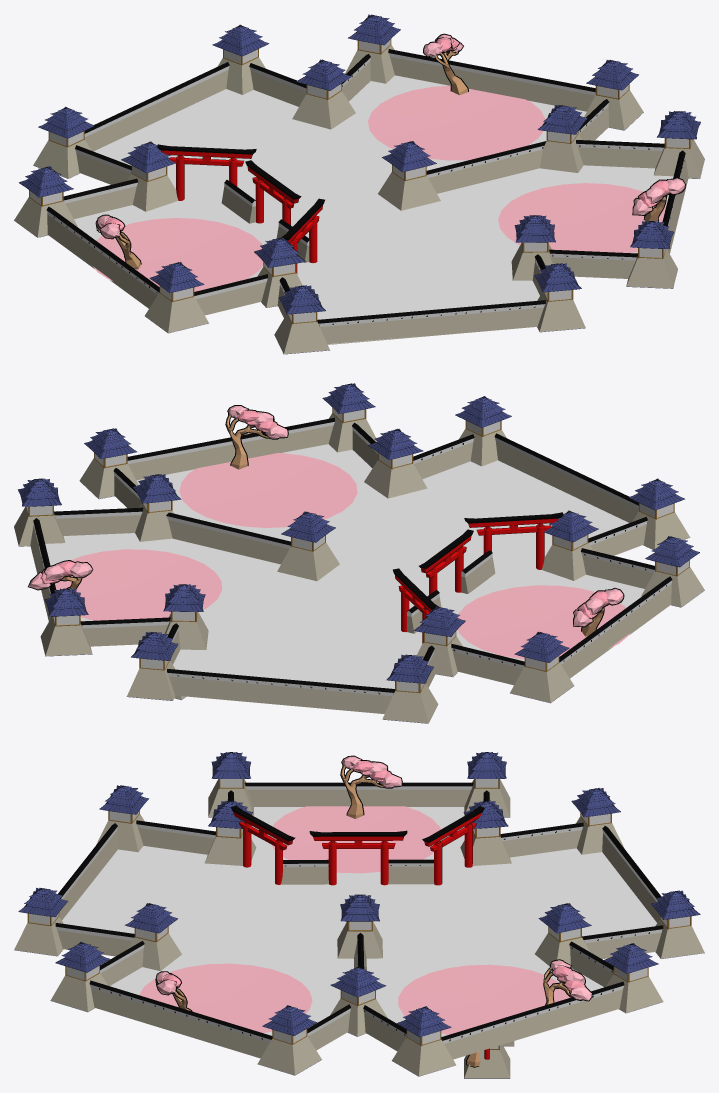
File: japanesemaplarge.fbx
The picture shows the model from 3 angles, top to bottom: view 1: azimuth 30°, elevation 25°; view 2: azimuth 150°, elevation 25°; view 3: azimuth 270°, elevation 25°; orthographic projection. The views are drawn at different scales.
Visible parts, largest first — view 1: FloorPlanPaintable, SakuraCircleRight, SakuraCircleTop, SakuraCircleLeft, Wallhub.006|Roof1|Dupli|, Wallhub.002|Roof1|Dupli|, Wallhub.015|Roof1|Dupli|, Wallhub.013|Roof1|Dupli|, Wallhub.011|Roof1|Dupli|, Wallhub.008|Roof1|Dupli|, Wallhub.003|Roof1|Dupli|, Wallhub.014|Roof1|Dupli| (+46 smaller); view 2: FloorPlanPaintable, SakuraCircleLeft, SakuraCircleRight, SakuraCircleTop, Wallhub.005|Roof1|Dupli|, Wallhub|Roof1|Dupli|, Wallhub.015|Roof1|Dupli|, Wallhub.008|Roof1|Dupli|, Wallhub.010|Roof1|Dupli|, Wallhub.004|Roof1|Dupli|, Wallhub.007|Roof1|Dupli|, Wallhub.006|Roof1|Dupli| (+47 smaller); view 3: FloorPlanPaintable, SakuraCircleRight, SakuraCircleLeft, SakuraCircleTop, Wallhub.012|Roof1|Dupli|, Wallhub.009|Roof1|Dupli|, Wallhub.010|Roof1|Dupli|, Wallhub.011|Roof1|Dupli|, Wallhub.014|Roof1|Dupli|, Wallhub.007|Roof1|Dupli|, Wallhub|Roof1|Dupli|, Wallhub.015|Roof1|Dupli| (+52 smaller).
Boxes of the visible parts, x1,y1,x2,y2 form: FloorPlanPaintable: (74,75,673,344); SakuraCircleRight: (368,85,545,160); SakuraCircleTop: (93,218,263,291); SakuraCircleLeft: (498,183,666,252); Wallhub.006|Roof1|Dupli|: (145,262,208,333); Wallhub.002|Roof1|Dupli|: (292,59,355,129); Wallhub.015|Roof1|Dupli|: (378,141,440,210); Wallhub.013|Roof1|Dupli|: (274,285,329,354); Wallhub.011|Roof1|Dupli|: (626,220,677,288); Wallhub.008|Roof1|Dupli|: (33,106,94,178); Wallhub.003|Roof1|Dupli|: (121,141,178,211); Wallhub.014|Roof1|Dupli|: (534,263,585,332); FloorPlanPaintable: (45,444,644,688); SakuraCircleLeft: (179,453,357,527); SakuraCircleRight: (55,549,222,620); SakuraCircleTop: (457,585,629,659); Wallhub.005|Roof1|Dupli|: (510,632,574,703); Wallhub|Roof1|Dupli|: (364,428,427,498); Wallhub.015|Roof1|Dupli|: (277,511,339,581); Wallhub.008|Roof1|Dupli|: (382,654,438,723); Wallhub.010|Roof1|Dupli|: (40,588,92,656); Wallhub.004|Roof1|Dupli|: (541,510,598,580); Wallhub.007|Roof1|Dupli|: (126,632,178,700); Wallhub.006|Roof1|Dupli|: (641,536,704,607); FloorPlanPaintable: (62,807,656,1036); SakuraCircleRight: (398,964,570,1034); SakuraCircleLeft: (139,963,312,1033); SakuraCircleTop: (269,806,441,873); Wallhub.012|Roof1|Dupli|: (257,1005,321,1075); Wallhub.009|Roof1|Dupli|: (392,1006,455,1076); Wallhub.010|Roof1|Dupli|: (604,943,663,1013); Wallhub.011|Roof1|Dupli|: (50,941,110,1012); Wallhub.014|Roof1|Dupli|: (14,888,67,956); Wallhub.007|Roof1|Dupli|: (651,890,704,958); Wallhub|Roof1|Dupli|: (125,903,181,970); Wallhub.015|Roof1|Dupli|: (337,894,382,958).
Bounding box in the file's own units: 2983 × 2846 × 670.
